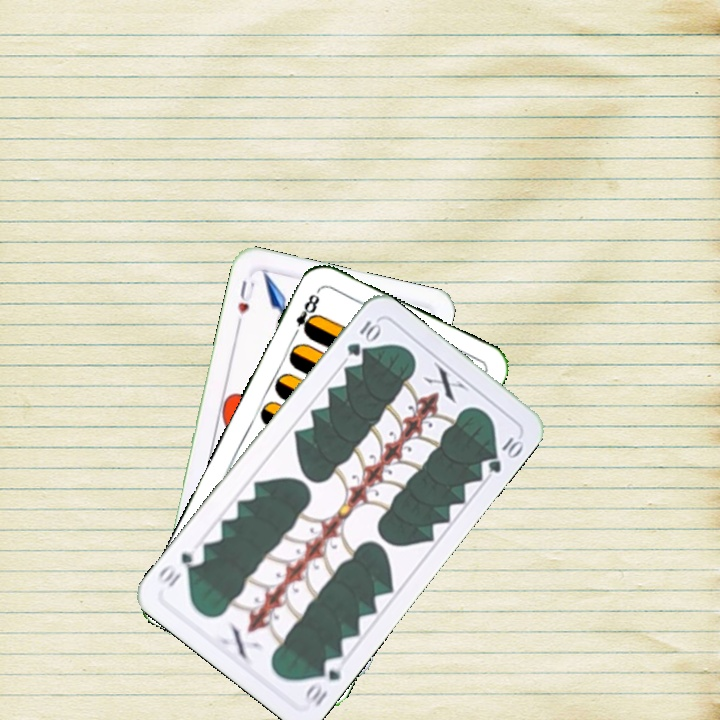E8: (288, 286, 322, 341)
G10: (300, 653, 347, 709), (342, 316, 383, 359)
HU: (233, 276, 258, 329)
